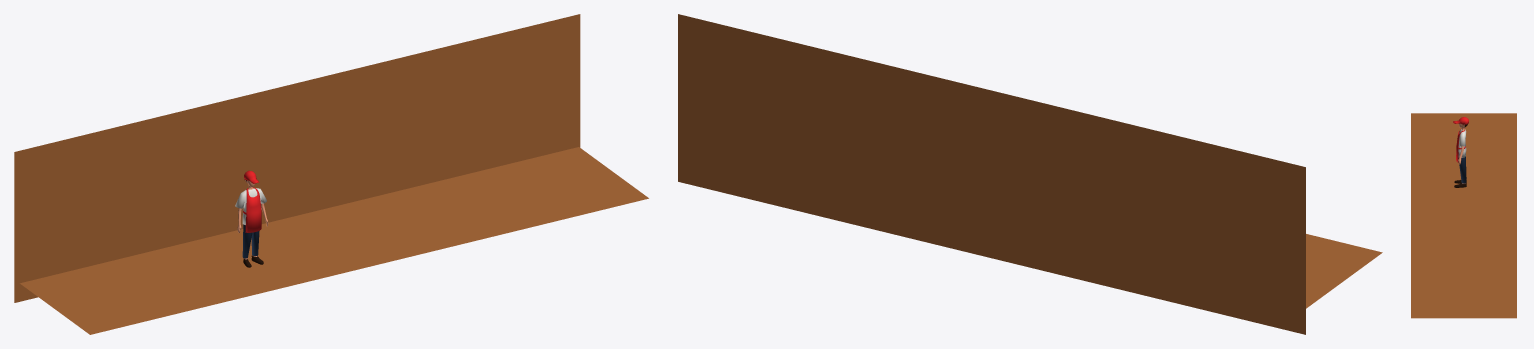
The model's file is pizza boy character (2).fbx.
3 renders of one model, left to right at view 1: azimuth 30°, elevation 25°; view 2: azimuth 150°, elevation 25°; view 3: azimuth 270°, elevation 25°, orthographic. The views are drawn at different scales.
Visible parts, largest first — view 1: background, bg floor, apron; view 2: background, bg floor; view 3: bg floor, shirt, pants, apron, body.
Boxes of the visible parts, left/top/right/bottom form: background: left=14, top=14, right=580, bottom=302; bg floor: left=20, top=147, right=648, bottom=334; apron: left=243, top=187, right=261, bottom=232; background: left=678, top=14, right=1305, bottom=334; bg floor: left=1306, top=234, right=1382, bottom=308; bg floor: left=1411, top=113, right=1516, bottom=318; shirt: left=1458, top=129, right=1466, bottom=157; pants: left=1458, top=156, right=1466, bottom=183; apron: left=1456, top=128, right=1465, bottom=162; body: left=1458, top=123, right=1465, bottom=183.
Size of the model in its own units: 4025 by 1028 by 893.
